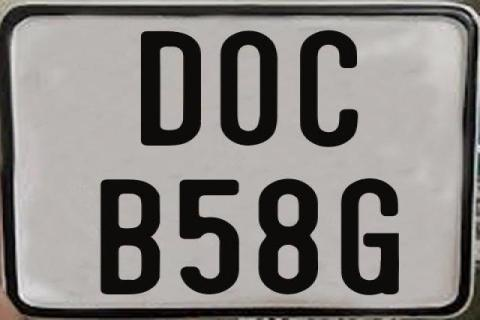0: (219, 28, 282, 148), (179, 179, 243, 296), (255, 178, 315, 294)
B: (98, 177, 158, 293)
C: (297, 30, 361, 146)
D: (138, 30, 203, 148)
G: (339, 178, 400, 296)
